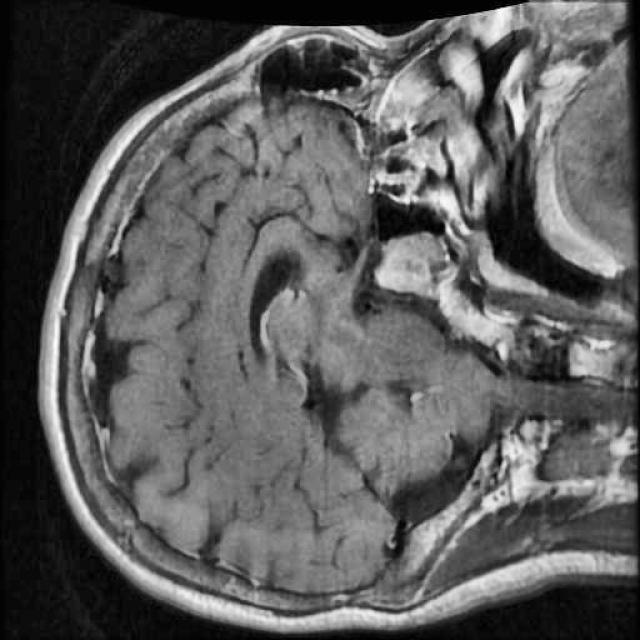Tumor: (360, 221, 464, 306)
